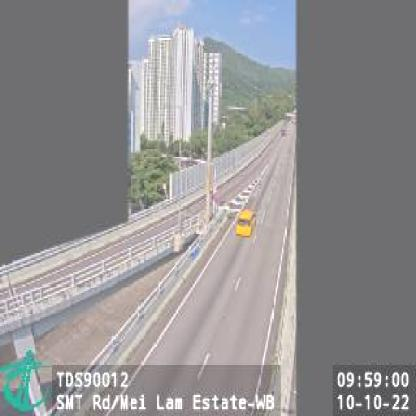Car: (237, 208, 256, 236), (234, 194, 247, 208)
